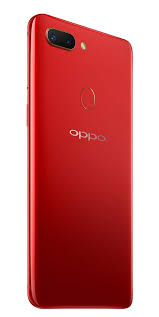oppo: (25, 11, 134, 312)
